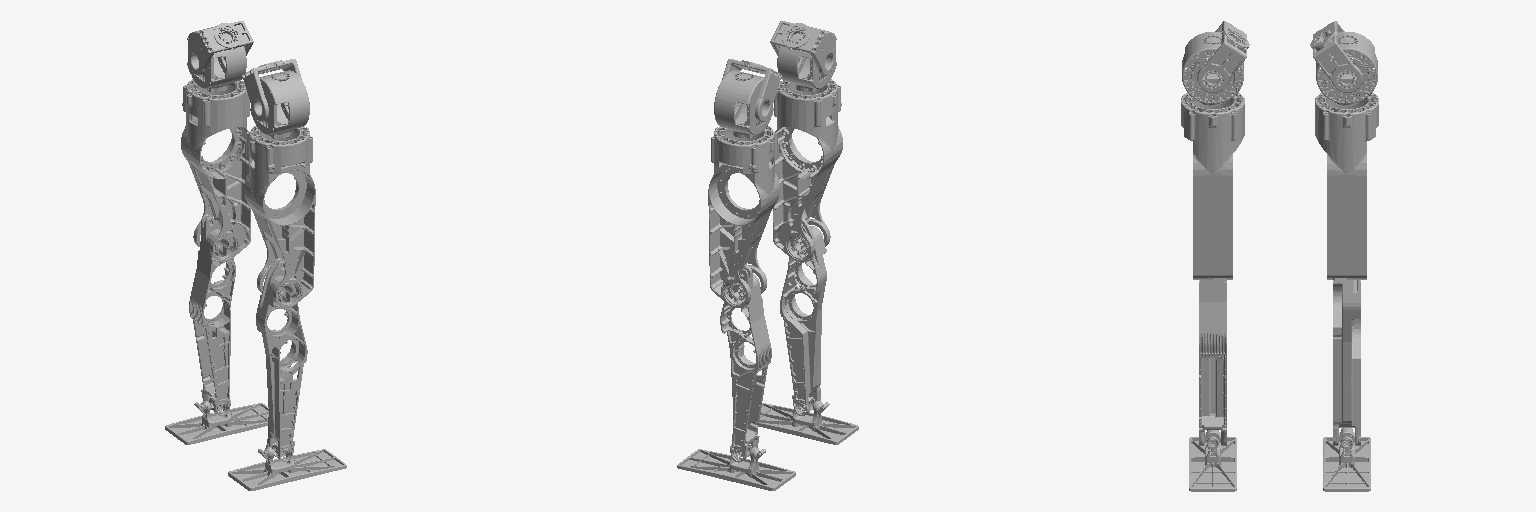
robot.urdf — L1:
<?xml version="1.0" encoding="utf-8"?>
<!-- This URDF was automatically created by SolidWorks to URDF Exporter! Originally created by
Stephen Brawner (brawner@gmail.com) 
     Commit Version: 1.6.0-1-g15f4949  Build Version: 1.6.7594.29634
     For more information, please see http://wiki.ros.org/sw_urdf_exporter -->
<robot
  name="L1">
  <mujoco>
    <compiler meshdir="../meshes_L1/"/>
  </mujoco>


  <link
    name="base_link">
    <inertial>
      <origin
        xyz="-0.00059405 -0.00012115 0.10009882"
        rpy="0 0 0" />
      <mass
        value="15.06852009" />
      <inertia
        ixx="0.57641633"
        ixy="-0.00030422"
        ixz="-0.05605291"
        iyy="0.53758081"
        iyz="0.00053837"
        izz="0.10190217" />
    </inertial>
    <visual>
      <origin
        xyz="0 0 0"
        rpy="0 0 0" />
      <geometry>
        <mesh
          filename="../meshes_L1/base_link.STL" />
      </geometry>
      <material
        name="">
        <color
          rgba="0.75294 0.75294 0.75294 1" />
      </material>
    </visual>
    <collision>
      <origin
        xyz="0 0 0"
        rpy="0 0 0" />
      <geometry>
        <mesh
          filename="../meshes_L1/base_link.STL" />
      </geometry>
    </collision>
    <!-- <collision>
      <origin
        xyz="0 0 0.25"
        rpy="0 0 0" />
      <geometry>
        <box size="0.15 0.55 0.55" />
      </geometry>
    </collision> -->
  </link>

  <link
    name="leg_l1_link">
    <inertial>
      <origin
        xyz="0.00402267 0.0229258 -0.03274144"
        rpy="0 0 0" />
      <mass
        value="0.33758308" />
      <inertia
        ixx="0.00060104"
        ixy="-4.251E-05"
        ixz="6.071E-05"
        iyy="0.00097796"
        iyz="0.00016958"
        izz="0.00085451" />
    </inertial>
    <visual>
      <origin
        xyz="0 0 0"
        rpy="0 0 0" />
      <geometry>
        <mesh
          filename="../meshes_L1/LL1.STL" />
      </geometry>
      <material
        name="">
        <color
          rgba="0.75294 0.75294 0.75294 1" />
      </material>
    </visual>
    <!-- <collision>
      <origin
        xyz="0 0 0"
        rpy="0 0 0" />
      <geometry>
        <mesh
          filename="../meshes_L1/LeftLeg_Link_01.STL" />
      </geometry>
    </collision> -->
  </link>

  <joint
    name="leg_l1_joint"
    type="revolute">
    <origin
      xyz="0 0.090386 -0.091358"
      rpy="0 0 0" />
    <parent
      link="base_link" />
    <child
      link="leg_l1_link" />
    <axis
      xyz="0 -0.57358 0.81915" />
    <limit
      lower="-1.815"
      upper="1.728"
      effort="205"
      velocity="14" />
  </joint>

  <link
    name="leg_l2_link">
    <inertial>
      <origin
        xyz="0.00639226 9.576E-05 -0.0033657"
        rpy="0 0 0" />
      <mass
        value="2.05978136" />
      <inertia
        ixx="0.00330318"
        ixy="1.8E-07"
        ixz="-0.00014392"
        iyy="0.00275553"
        iyz="1.72E-06"
        izz="0.00237031" />
    </inertial>
    <visual>
      <origin
        xyz="0 0 0"
        rpy="0 0 0" />
      <geometry>
        <mesh
          filename="../meshes_L1/LL2.STL" />
      </geometry>
      <material
        name="">
        <color
          rgba="0.75294 0.75294 0.75294 1" />
      </material>
    </visual>
    <!-- <collision>
      <origin
        xyz="0 0 0"
        rpy="0 0 0" />
      <geometry>
        <mesh
          filename="../meshes_L1/LeftLeg_Link_02.STL" />
      </geometry>
    </collision> -->
  </link>

  <joint
    name="leg_l2_joint"
    type="revolute">
    <origin
      xyz="0 0.049614 -0.070857"
      rpy="0 0 0" />
    <parent
      link="leg_l1_link" />
    <child
      link="leg_l2_link" />
    <axis
      xyz="1 0 0" />
    <limit
      lower="-1.134"
      upper="1.309"
      effort="205"
      velocity="14" />
  </joint>

  <link
    name="leg_l3_link">
    <inertial>
      <origin
        xyz="0.00302429 0.00846589 -0.12773383"
        rpy="0 0 0" />
      <mass
        value="5.34674227" />
      <inertia
        ixx="0.05907733"
        ixy="0.00026302"
        ixz="0.00355107"
        iyy="0.05921821"
        iyz="0.00056807"
        izz="0.01051648" />
    </inertial>
    <visual>
      <origin
        xyz="0 0 0"
        rpy="0 0 0" />
      <geometry>
        <mesh
          filename="../meshes_L1/LL3.STL" />
      </geometry>
      <material
        name="">
        <color
          rgba="0.75294 0.75294 0.75294 1" />
      </material>
    </visual>
    <collision>
      <origin
        xyz="0 0 -0.18"
        rpy="0 0 0" />
      <geometry>
        <box size="0.05 0.05 0.25" />
      </geometry>
    </collision>
  </link>

  <joint
    name="leg_l3_joint"
    type="revolute">
    <origin
      xyz="0 0 -0.075"
      rpy="0 0 0" />
    <parent
      link="leg_l2_link" />
    <child
      link="leg_l3_link" />
    <axis
      xyz="0 0 1" />
    <limit
      lower="-1.396"
      upper="1.396"
      effort="205"
      velocity="14" />
  </joint>

  <link
    name="leg_l4_link">
    <inertial>
      <origin
        xyz="-0.00054298 -5.372E-05 -0.15949497"
        rpy="0 0 0" />
      <mass
        value="2.64088474" />
      <inertia
        ixx="0.03304382"
        ixy="8.3E-05"
        ixz="-0.00027801"
        iyy="0.03353535"
        iyz="-1.657E-05"
        izz="0.00261888" />
    </inertial>
    <visual>
      <origin
        xyz="0 0 0"
        rpy="0 0 0" />
      <geometry>
        <mesh
          filename="../meshes_L1/LL4.STL" />
      </geometry>
      <material
        name="">
        <color
          rgba="0.75294 0.75294 0.75294 1" />
      </material>
    </visual>
    <collision>
      <origin
        xyz="0 0 -0.2"
        rpy="0 0 0" />
      <geometry>
        <box size="0.05 0.05 0.25" />
      </geometry>
    </collision>
  </link>

  <joint
    name="leg_l4_joint"
    type="revolute">
    <origin
      xyz="0 0 -0.375"
      rpy="0 0 0" />
    <parent
      link="leg_l3_link" />
    <child
      link="leg_l4_link" />
    <axis
      xyz="0 1 0" />
    <limit
      lower="0.0"
      upper="2.443"
      effort="205"
      velocity="14" />
  </joint>

  <link
    name="leg_l5_link">
    <inertial>
      <origin
        xyz="0 0 0"
        rpy="0 0 0" />
      <mass
        value="0.03494031" />
      <inertia
        ixx="5.53E-06"
        ixy="0"
        ixz="0"
        iyy="3.79E-06"
        iyz="0"
        izz="3.98E-06" />
    </inertial>
    <visual>
      <origin
        xyz="0 0 0"
        rpy="0 0 0" />
      <geometry>
        <mesh
          filename="../meshes_L1/LL5.STL" />
      </geometry>
      <material
        name="">
        <color
          rgba="0.75294 0.75294 0.75294 1" />
      </material>
    </visual>
    <!-- <collision>
      <origin
        xyz="0 0 0"
        rpy="0 0 0" />
      <geometry>
        <mesh
          filename="../meshes_L1/LeftLeg_Link_05.STL" />
      </geometry>
    </collision> -->
  </link>

  <joint
    name="leg_l5_joint"
    type="revolute">
    <origin
      xyz="0 0 -0.4"
      rpy="0 0 0" />
    <parent
      link="leg_l4_link" />
    <child
      link="leg_l5_link" />
    <axis
      xyz="0 1 0" />
    <limit
      lower="-1.047"
      upper="0.523"
      effort="205"
      velocity="16" />
  </joint>

  <link
    name="leg_l6_link">
    <inertial>
      <origin
        xyz="0.0117187 0 -0.04631141"
        rpy="0 0 0" />
      <mass
        value="0.78906281" />
      <inertia
        ixx="0.00084994"
        ixy="-1E-08"
        ixz="0.00014171"
        iyy="0.00361695"
        iyz="0"
        izz="0.00397023" />
    </inertial>
    <visual>
      <origin
        xyz="0 0 0"
        rpy="0 0 0" />
      <geometry>
        <mesh
          filename="../meshes_L1/LL6.STL" />
      </geometry>
      <material
        name="">
        <color
          rgba="0.75294 0.75294 0.75294 1" />
      </material>
    </visual>
    <collision>
      <!-- <origin
        xyz="0.05 0 -0.04"
        rpy="0 0 0" />
      <geometry>
        <box size="0.24 0.08 0.03" />
      </geometry> -->
      <origin
        xyz="0 0 0"
        rpy="0 0 0" />
      <geometry>
        <mesh
          filename="../meshes_L1/LL6.STL" />
      </geometry>
    </collision>
  </link>

  <joint
    name="leg_l6_joint"
    type="revolute">
    <origin
      xyz="0 0 0"
      rpy="0 0 0" />
    <parent
      link="leg_l5_link" />
    <child
      link="leg_l6_link" />
    <axis
      xyz="1 0 0" />
    <limit
      lower="-0.611"
      upper="0.611"
      effort="205"
      velocity="16" />
  </joint>


  <link
    name="leg_r1_link">
    <inertial>
      <origin
        xyz="0.00390365 -0.02310169 -0.03299263"
        rpy="0 0 0" />
      <mass
        value="0.34441269" />
      <inertia
        ixx="0.00061264"
        ixy="4.813E-05"
        ixz="6.873E-05"
        iyy="0.00100275"
        iyz="-0.00017397"
        izz="0.00087612" />
    </inertial>
    <visual>
      <origin
        xyz="0 0 0"
        rpy="0 0 0" />
      <geometry>
        <mesh
          filename="../meshes_L1/LR1.STL" />
      </geometry>
      <material
        name="">
        <color
          rgba="0.75294 0.75294 0.75294 1" />
      </material>
    </visual>
    <!-- <collision>
      <origin
        xyz="0 0 0"
        rpy="0 0 0" />
      <geometry>
        <mesh
          filename="../meshes_L1/RightLeg_Link_01.STL" />
      </geometry>
    </collision> -->
  </link>

  <joint
    name="leg_r1_joint"
    type="revolute">
    <origin
      xyz="0 -0.090386 -0.091358"
      rpy="0 0 0" />
    <parent
      link="base_link" />
    <child
      link="leg_r1_link" />
    <axis
      xyz="0 0.57358 0.81915" />
    <limit
      lower="-1.728"
      upper="1.815"
      effort="205"
      velocity="14" />
  </joint>

  <link
    name="leg_r2_link">
    <inertial>
      <origin
        xyz="0.00639226 9.576E-05 -0.0033657"
        rpy="0 0 0" />
      <mass
        value="2.05978136" />
      <inertia
        ixx="0.00330318"
        ixy="1.8E-07"
        ixz="-0.00014392"
        iyy="0.00275553"
        iyz="1.72E-06"
        izz="0.00237031" />
    </inertial>
    <visual>
      <origin
        xyz="0 0 0"
        rpy="0 0 0" />
      <geometry>
        <mesh
          filename="../meshes_L1/LR2.STL" />
      </geometry>
      <material
        name="">
        <color
          rgba="0.75294 0.75294 0.75294 1" />
      </material>
    </visual>
    <!-- <collision>
      <origin
        xyz="0 0 0"
        rpy="0 0 0" />
      <geometry>
        <mesh
          filename="../meshes_L1/RightLeg_Link_02.STL" />
      </geometry>
    </collision> -->
  </link>

  <joint
    name="leg_r2_joint"
    type="revolute">
    <origin
      xyz="0 -0.049614 -0.070857"
      rpy="0 0 0" />
    <parent
      link="leg_r1_link" />
    <child
      link="leg_r2_link" />
    <axis
      xyz="1 0 0" />
    <limit
      lower="-1.309"
      upper="1.134"
      effort="205"
      velocity="14" />
  </joint>

  <link
    name="leg_r3_link">
    <inertial>
      <origin
        xyz="0.00397633 -0.00860638 -0.12812773"
        rpy="0 0 0" />
      <mass
        value="5.40514941" />
      <inertia
        ixx="0.06028819"
        ixy="-0.00027695"
        ixz="0.00332167"
        iyy="0.06037697"
        iyz="-0.00071335"
        izz="0.01065022" />
    </inertial>
    <visual>
      <origin
        xyz="0 0 0"
        rpy="0 0 0" />
      <geometry>
        <mesh
          filename="../meshes_L1/LR3.STL" />
      </geometry>
      <material
        name="">
        <color
          rgba="0.75294 0.75294 0.75294 1" />
      </material>
    </visual>
    <collision>
      <origin
        xyz="0 0 -0.18"
        rpy="0 0 0" />
      <geometry>
        <box size="0.05 0.05 0.25" />
      </geometry>
    </collision>
  </link>

  <joint
    name="leg_r3_joint"
    type="revolute">
    <origin
      xyz="0 0 -0.075"
      rpy="0 0 0" />
    <parent
      link="leg_r2_link" />
    <child
      link="leg_r3_link" />
    <axis
      xyz="0 0 1" />
    <limit
      lower="-1.396"
      upper="1.396"
      effort="205"
      velocity="14" />
  </joint>

  <link
    name="leg_r4_link">
    <inertial>
      <origin
        xyz="-0.00074804 4.31E-06 -0.15794397"
        rpy="0 0 0" />
      <mass
        value="2.64057882" />
      <inertia
        ixx="0.03139849"
        ixy="-8.897E-05"
        ixz="-0.00037362"
        iyy="0.03200284"
        iyz="8.798E-05"
        izz="0.00273697" />
    </inertial>
    <visual>
      <origin
        xyz="0 0 0"
        rpy="0 0 0" />
      <geometry>
        <mesh
          filename="../meshes_L1/LR4.STL" />
      </geometry>
      <material
        name="">
        <color
          rgba="0.75294 0.75294 0.75294 1" />
      </material>
    </visual>
    <collision>
      <origin
        xyz="0 0 -0.2"
        rpy="0 0 0" />
      <geometry>
        <box size="0.05 0.05 0.25" />
      </geometry>
    </collision>
  </link>

  <joint
    name="leg_r4_joint"
    type="revolute">
    <origin
      xyz="0 0 -0.375"
      rpy="0 0 0" />
    <parent
      link="leg_r3_link" />
    <child
      link="leg_r4_link" />
    <axis
      xyz="0 1 0" />
    <limit
      lower="0.0"
      upper="2.443"
      effort="205"
      velocity="14" />
  </joint>

  <link
    name="leg_r5_link">
    <inertial>
      <origin
        xyz="0 0 0"
        rpy="0 0 0" />
      <mass
        value="0.03494031" />
      <inertia
        ixx="5.53E-06"
        ixy="0"
        ixz="0"
        iyy="3.79E-06"
        iyz="0"
        izz="3.98E-06" />
    </inertial>
    <visual>
      <origin
        xyz="0 0 0"
        rpy="0 0 0" />
      <geometry>
        <mesh
          filename="../meshes_L1/LR5.STL" />
      </geometry>
      <material
        name="">
        <color
          rgba="0.75294 0.75294 0.75294 1" />
      </material>
    </visual>
    <!-- <collision>
      <origin
        xyz="0 0 0"
        rpy="0 0 0" />
      <geometry>
        <mesh
          filename="../meshes_L1/RightLeg_Link_05.STL" />
      </geometry>
    </collision> -->
  </link>

  <joint
    name="leg_r5_joint"
    type="revolute">
    <origin
      xyz="0 0 -0.4"
      rpy="0 0 0" />
    <parent
      link="leg_r4_link" />
    <child
      link="leg_r5_link" />
    <axis
      xyz="0 1 0" />
    <limit
      lower="-1.047"
      upper="0.523"
      effort="205"
      velocity="16" />
  </joint>

  <link
    name="leg_r6_link">
    <inertial>
      <origin
        xyz="0.0117187 0 -0.04631141"
        rpy="0 0 0" />
      <mass
        value="0.78906281" />
      <inertia
        ixx="0.00084994"
        ixy="-1E-08"
        ixz="0.00014171"
        iyy="0.00361695"
        iyz="0"
        izz="0.00397023" />
    </inertial>
    <visual>
      <origin
        xyz="0 0 0"
        rpy="0 0 0" />
      <geometry>
        <mesh
          filename="../meshes_L1/LR6.STL" />
      </geometry>
      <material
        name="">
        <color
          rgba="0.75294 0.75294 0.75294 1" />
      </material>
    </visual>
    <collision>
      <!-- <origin
        xyz="0.05 0 -0.04"
        rpy="0 0 0" />
      <geometry>
        <box size="0.24 0.08 0.03" />
      </geometry> -->
      <origin
        xyz="0 0 0"
        rpy="0 0 0" />
      <geometry>
        <mesh
          filename="../meshes_L1/LR6.STL" />
      </geometry>
    </collision>
  </link>

  <joint
    name="leg_r6_joint"
    type="revolute">
    <origin
      xyz="0 0 0"
      rpy="0 0 0" />
    <parent
      link="leg_r5_link" />
    <child
      link="leg_r6_link" />
    <axis
      xyz="1 0 0" />
    <limit
      lower="-0.611"
      upper="0.611"
      effort="205"
      velocity="16" />
  </joint>

</robot>

--- Render facts (derived) ---
3 views of the same robot in one strip: view 1: azimuth 30°, elevation 25°; view 2: azimuth 150°, elevation 25°; view 3: azimuth 270°, elevation 25° (orthographic).
Robot: L1 — 13 links, 12 joints (12 revolute); root link base_link; default pose: every joint at zero.
Visible links, largest first — view 1: leg_r3_link, leg_l3_link, leg_r4_link, leg_l4_link, leg_r6_link, leg_r2_link, leg_l6_link, leg_l1_link, leg_l2_link, leg_r1_link; view 2: leg_l3_link, leg_r3_link, leg_r4_link, leg_l4_link, leg_l6_link, leg_l2_link, leg_r6_link, leg_r1_link, leg_r2_link, leg_l1_link; view 3: leg_l3_link, leg_r3_link, leg_r4_link, leg_l4_link, leg_l6_link, leg_r6_link, leg_l2_link, leg_r2_link, leg_l1_link, leg_r1_link.
Boxes of the visible links, x1=… form: leg_r3_link: x1=244, y1=126, x2=315, y2=307; leg_l3_link: x1=181, y1=79, x2=250, y2=261; leg_r4_link: x1=256, y1=258, x2=307, y2=461; leg_l4_link: x1=189, y1=214, x2=235, y2=415; leg_r6_link: x1=228, y1=447, x2=346, y2=490; leg_r2_link: x1=250, y1=70, x2=309, y2=138; leg_l6_link: x1=165, y1=400, x2=268, y2=444; leg_l1_link: x1=188, y1=21, x2=253, y2=75; leg_l2_link: x1=187, y1=26, x2=246, y2=91; leg_r1_link: x1=242, y1=59, x2=301, y2=121; leg_l3_link: x1=708, y1=126, x2=779, y2=307; leg_r3_link: x1=773, y1=79, x2=842, y2=261; leg_r4_link: x1=780, y1=217, x2=826, y2=415; leg_l4_link: x1=720, y1=266, x2=771, y2=462; leg_l6_link: x1=677, y1=444, x2=795, y2=490; leg_l2_link: x1=714, y1=70, x2=773, y2=138; leg_r6_link: x1=759, y1=401, x2=858, y2=444; leg_r1_link: x1=770, y1=21, x2=835, y2=75; leg_r2_link: x1=777, y1=26, x2=836, y2=91; leg_l1_link: x1=722, y1=59, x2=781, y2=121; leg_l3_link: x1=1315, y1=92, x2=1378, y2=279; leg_r3_link: x1=1181, y1=92, x2=1244, y2=279; leg_r4_link: x1=1199, y1=278, x2=1226, y2=445; leg_l4_link: x1=1333, y1=278, x2=1360, y2=445; leg_l6_link: x1=1323, y1=428, x2=1370, y2=491; leg_r6_link: x1=1189, y1=430, x2=1236, y2=491; leg_l2_link: x1=1316, y1=32, x2=1377, y2=105; leg_r2_link: x1=1182, y1=32, x2=1243, y2=105; leg_l1_link: x1=1310, y1=21, x2=1362, y2=92; leg_r1_link: x1=1197, y1=21, x2=1249, y2=92.
Bounding box of the posed robot: 0.25 × 0.415 × 0.9974 m (x, y, z).
Meshes: 13 distinct files referenced, 12 mesh visuals loaded (12 binary STL); not drawn: 1 (reference not matched to a file when rendering).
